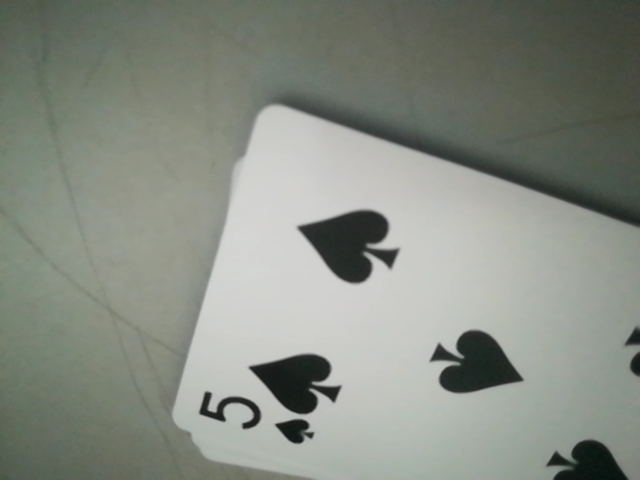ht 5: (188, 391, 329, 452)
